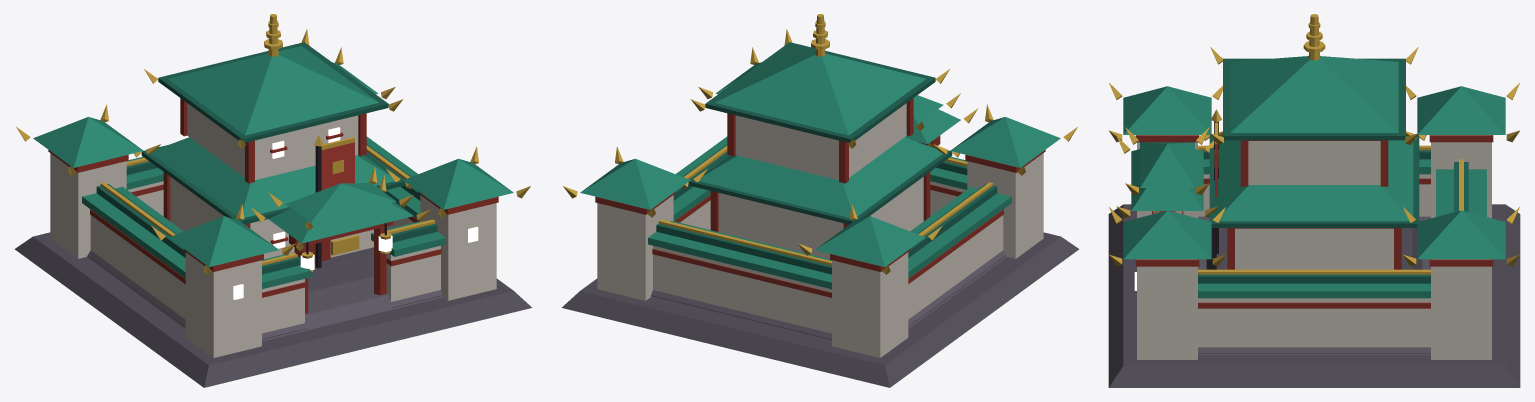
File: castle_t2.glb
3 renders of one model, left to right at view 1: azimuth 30°, elevation 25°; view 2: azimuth 150°, elevation 25°; view 3: azimuth 270°, elevation 25°, orthographic. The views are drawn at different scales.
Parts seen in each view (by area): view 1: body, glow; view 2: body; view 3: body.
Part boxes in pixels (<box>): body: <box>14,14,532,387</box>; glow: <box>233,127,478,299</box>; body: <box>561,14,1079,387</box>; body: <box>1108,14,1520,387</box>.
Size of the model in its own units: 4.2 by 3.21 by 4.21.
